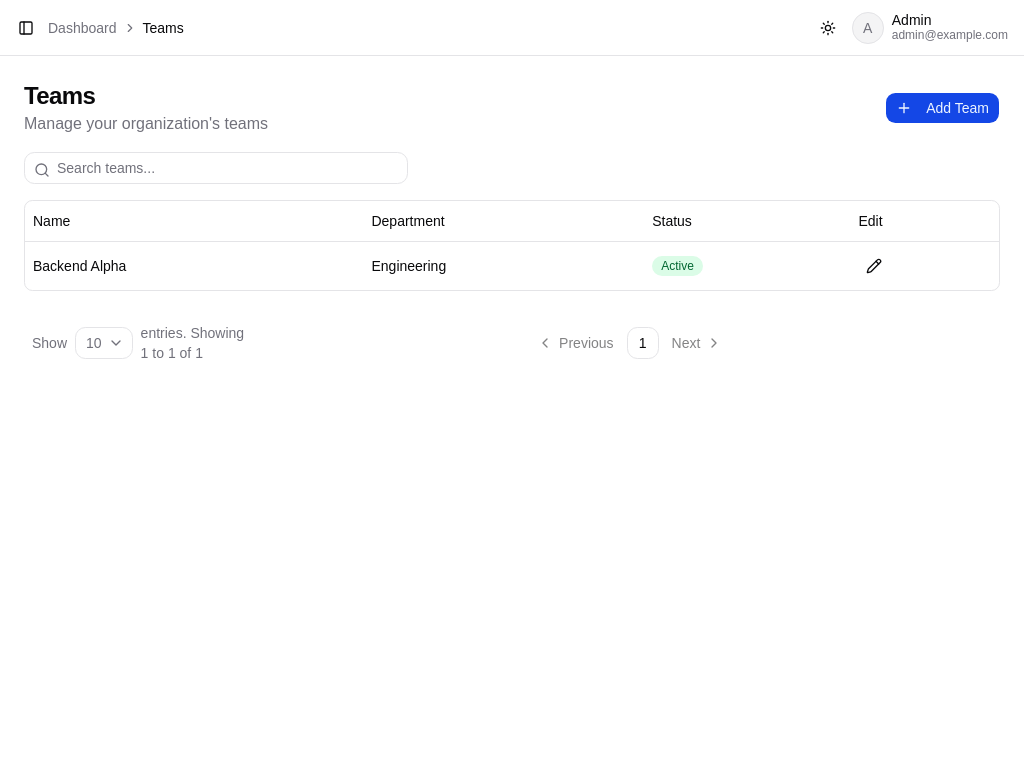
it: Teams page › shows validation error when department is not selected
This screenshot has width=1024, height=768.
Click the button "Add Team" at (943, 108), box x1=885 y1=92 x2=1000 y2=124
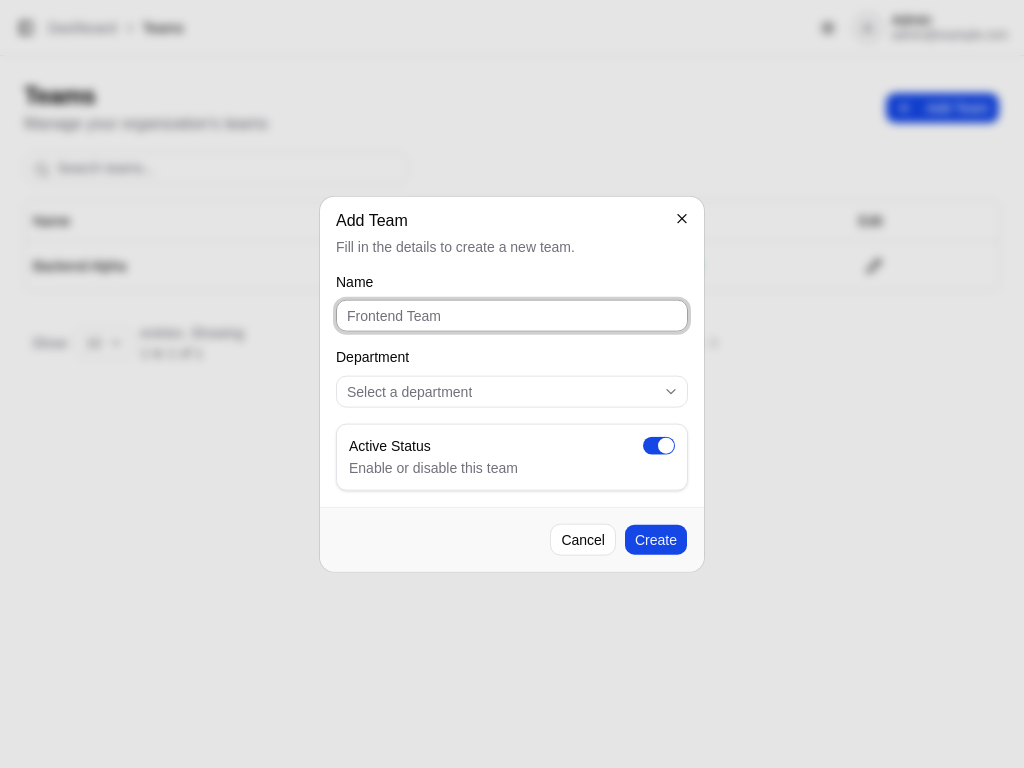
Expected: the dialog "Add Team" is shown, x1=320 y1=197 x2=704 y2=571
Type "Backend Beta" into the field with placeholder "Frontend Team" at (512, 316), box x1=336 y1=300 x2=688 y2=332
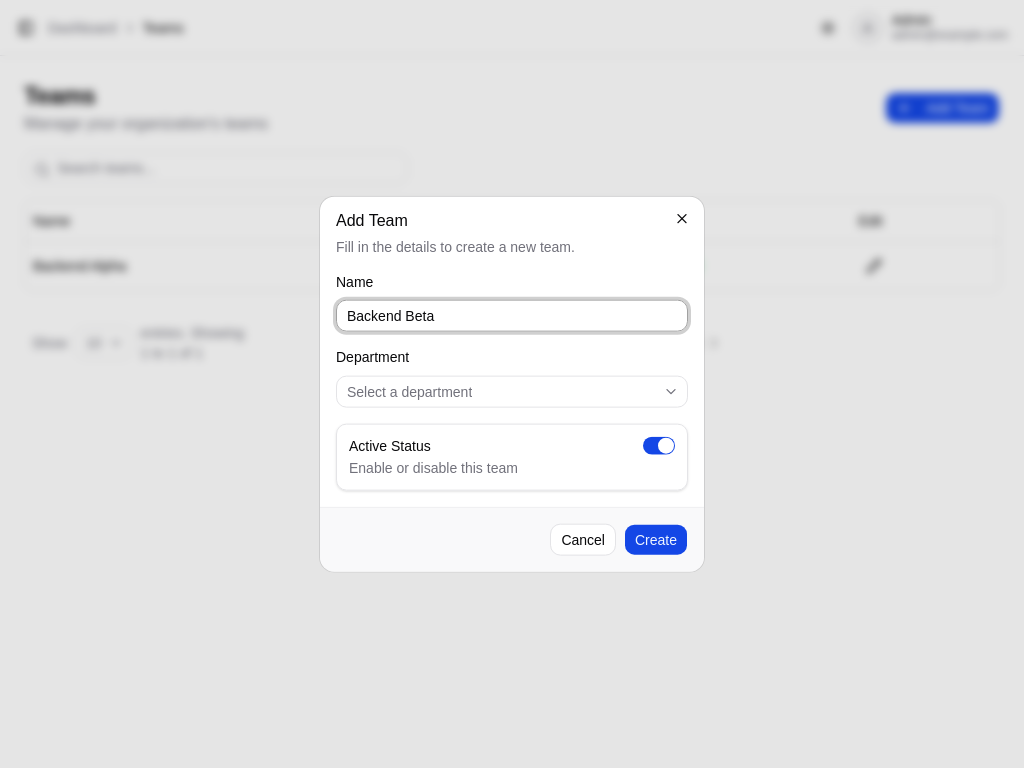
Click the button "Create" at (656, 539), box x1=624 y1=523 x2=688 y2=555
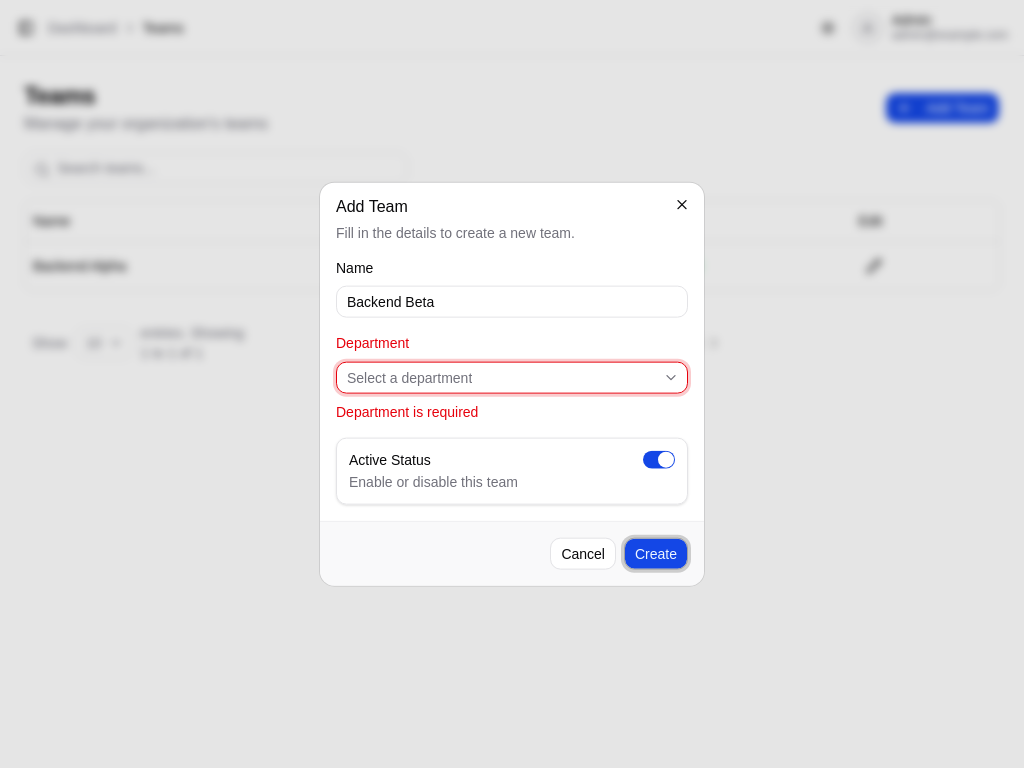
Expected: the text "Department is required" is shown, x1=336 y1=403 x2=478 y2=419
